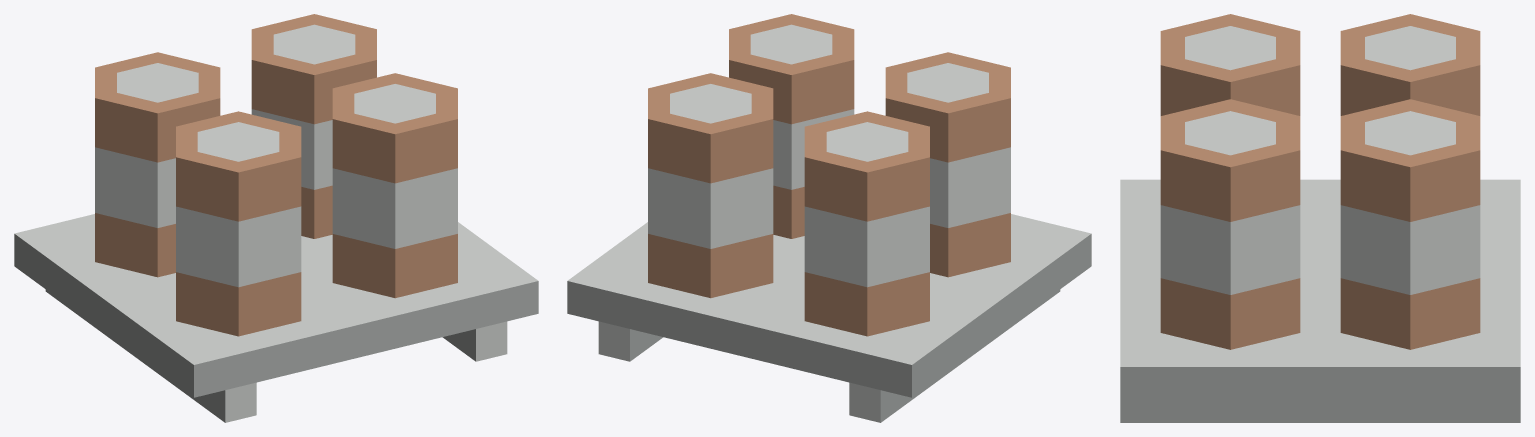
Rendered from srf_barrels.glb.
3 renders of one model, left to right at view 1: azimuth 30°, elevation 25°; view 2: azimuth 150°, elevation 25°; view 3: azimuth 270°, elevation 25°, orthographic. The views are drawn at different scales.
Parts seen in each view (by area): view 1: barrel (×4), barrels; view 2: barrel (×4), barrels; view 3: barrel (×4), barrels.
Boxes of the visible parts, left/top/right/bottom form: barrel (×4): left=95, top=14, right=457, bottom=336; barrels: left=14, top=214, right=538, bottom=422; barrel (×4): left=648, top=14, right=1010, bottom=336; barrels: left=567, top=214, right=1091, bottom=422; barrel (×4): left=1160, top=14, right=1480, bottom=349; barrels: left=1120, top=179, right=1520, bottom=422.
Bounding box in the file's own units: 0.55 × 0.35 × 0.4964.
